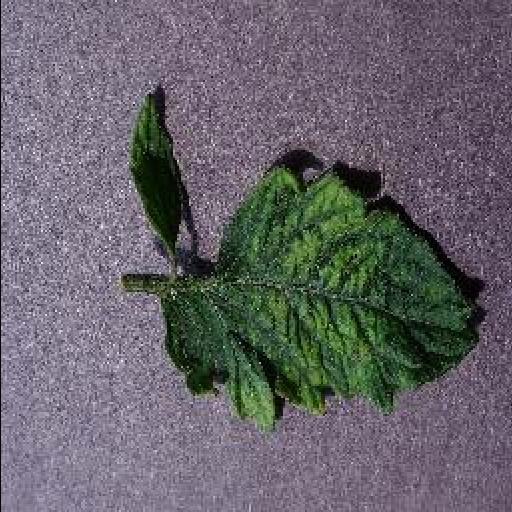Mosaic Virus: (162, 159, 488, 433), (128, 84, 190, 254)
